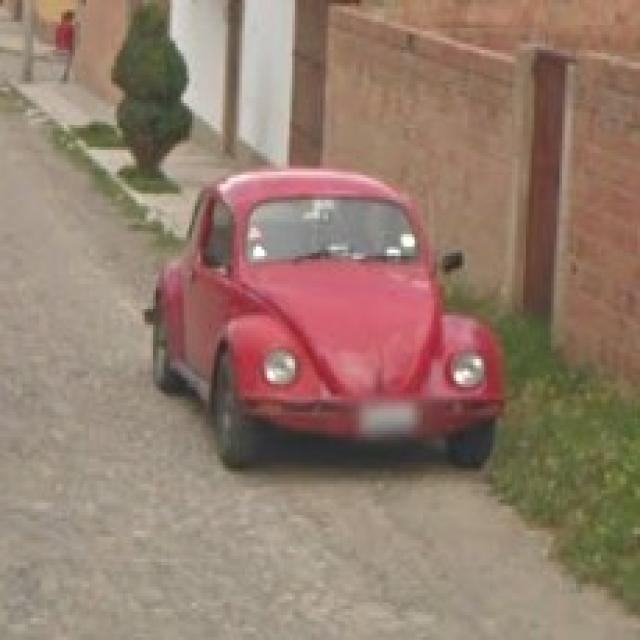car: (161, 174, 502, 450)
